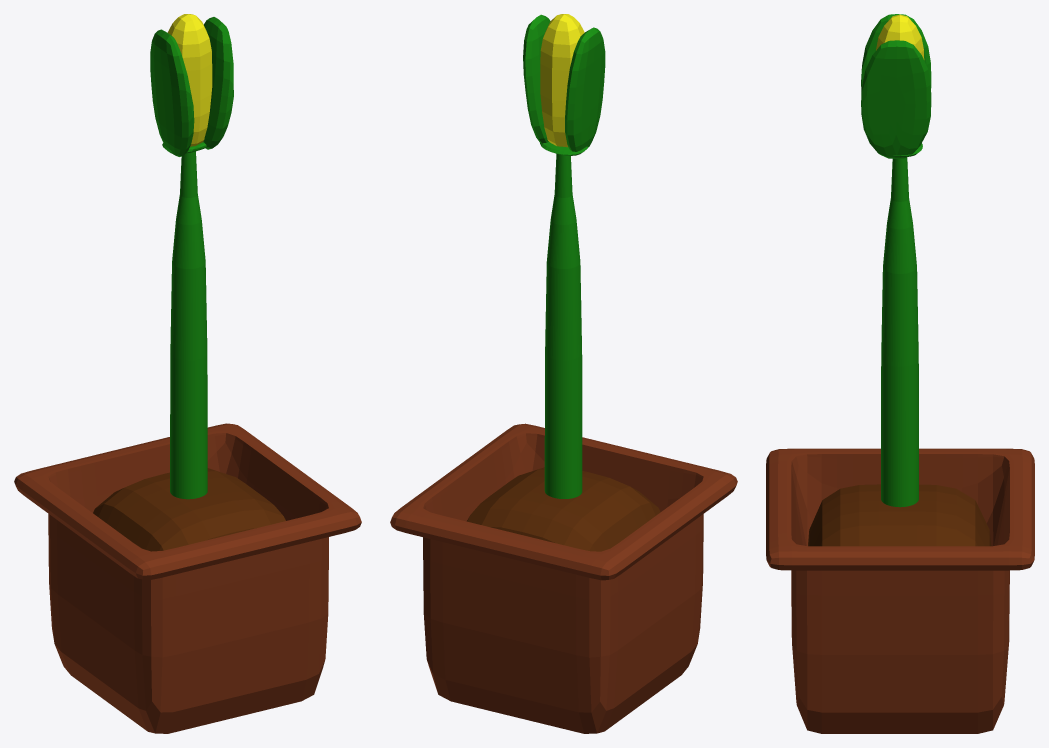
File: c_grown 1.fbx
3 renders of one model, left to right at view 1: azimuth 30°, elevation 25°; view 2: azimuth 150°, elevation 25°; view 3: azimuth 270°, elevation 25°, orthographic.
Visible parts, largest first — view 1: Pot with dirt, Cylinder, dirt, Cube.002, Cube, Cube.001; view 2: Pot with dirt, Cylinder, dirt, Cube.002, Cube, Cube.001; view 3: Pot with dirt, Cylinder, dirt, Cube.001, Cube, Cube.002.
Boxes of the visible parts, x1,y1,x2,y2 form: Pot with dirt: [14, 423, 361, 733]; Cylinder: [170, 151, 207, 499]; dirt: [93, 468, 285, 551]; Cube.002: [150, 29, 194, 156]; Cube: [167, 14, 212, 146]; Cube.001: [203, 17, 233, 149]; Pot with dirt: [390, 423, 737, 733]; Cylinder: [544, 153, 582, 498]; dirt: [467, 467, 660, 551]; Cube.002: [565, 27, 605, 151]; Cube: [540, 14, 584, 147]; Cube.001: [523, 14, 550, 143]; Pot with dirt: [766, 448, 1034, 733]; Cylinder: [881, 157, 918, 507]; dirt: [808, 484, 991, 546]; Cube.001: [861, 40, 931, 158]; Cube: [876, 14, 924, 59]; Cube.002: [861, 14, 931, 94].
Size of the model in its own units: 308 by 880 by 314.
